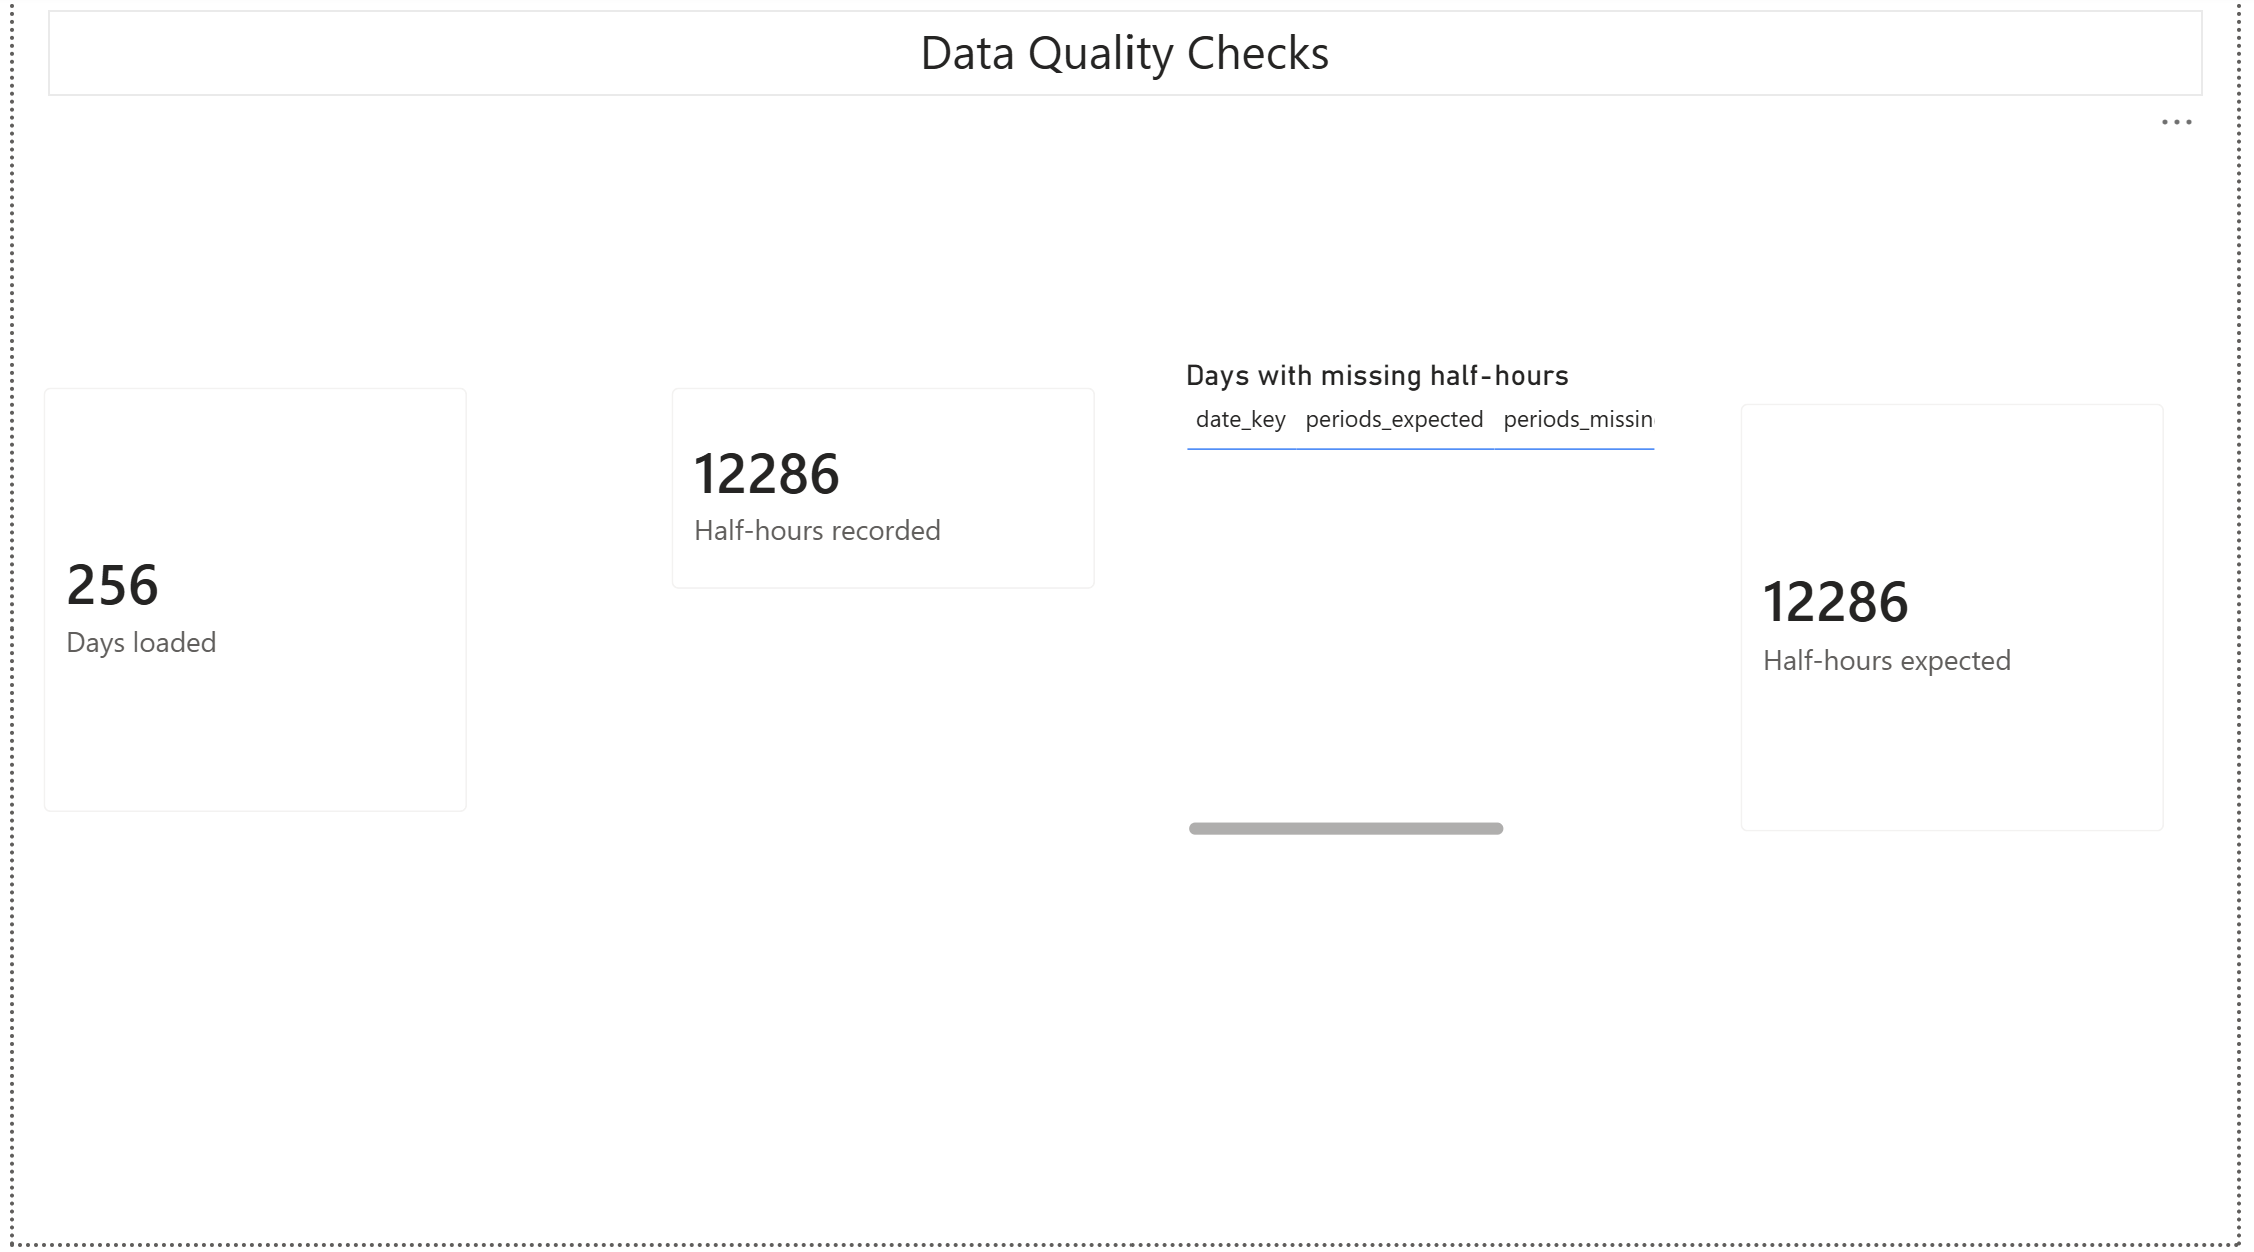

Layout of this report page (visuals, bound fields, positions):
{"tool":"powerbi","page":{"name":"Data Quality","canvas":[1280,720],"ordinal":1},"visuals":[{"type":"textbox","box":[20,10,1240,50],"z":0},{"type":"cardVisual","fields":{"Data":["Sum(v_daily_kpis.periods_recorded)"]},"box":[361.3,211.3,278.7,150],"z":2},{"type":"cardVisual","fields":{"Data":["Sum(v_daily_kpis.periods_expected)"]},"box":[976.8,220.5,278.7,280.2],"z":3},{"type":"tableEx","title":"Days with missing half-hours ","fields":{"Values":["v_data_quality.date_key","v_data_quality.periods_expected","v_data_quality.periods_missing","v_data_quality.periods_recorded"]},"box":[669.1,211.3,280.2,280.2],"z":4},{"type":"cardVisual","fields":{"Data":["CountNonNull(v_daily_kpis.date_key)"]},"box":[0,211.3,278.7,278.7],"z":5}]}

Visuals, with their boxes in screenshot pixels (x1, y1, x2, y2), scaled from the page's 1280x720 canvas onto the 2254x1252 screenshot:
textbox: {"x1": 35, "y1": 17, "x2": 2219, "y2": 104}
cardVisual - Sum(v_daily_kpis.periods_recorded): {"x1": 636, "y1": 367, "x2": 1127, "y2": 628}
cardVisual - Sum(v_daily_kpis.periods_expected): {"x1": 1720, "y1": 383, "x2": 2211, "y2": 871}
"Days with missing half-hours " tableEx: {"x1": 1178, "y1": 367, "x2": 1672, "y2": 855}
cardVisual - CountNonNull(v_daily_kpis.date_key): {"x1": 0, "y1": 367, "x2": 491, "y2": 852}
